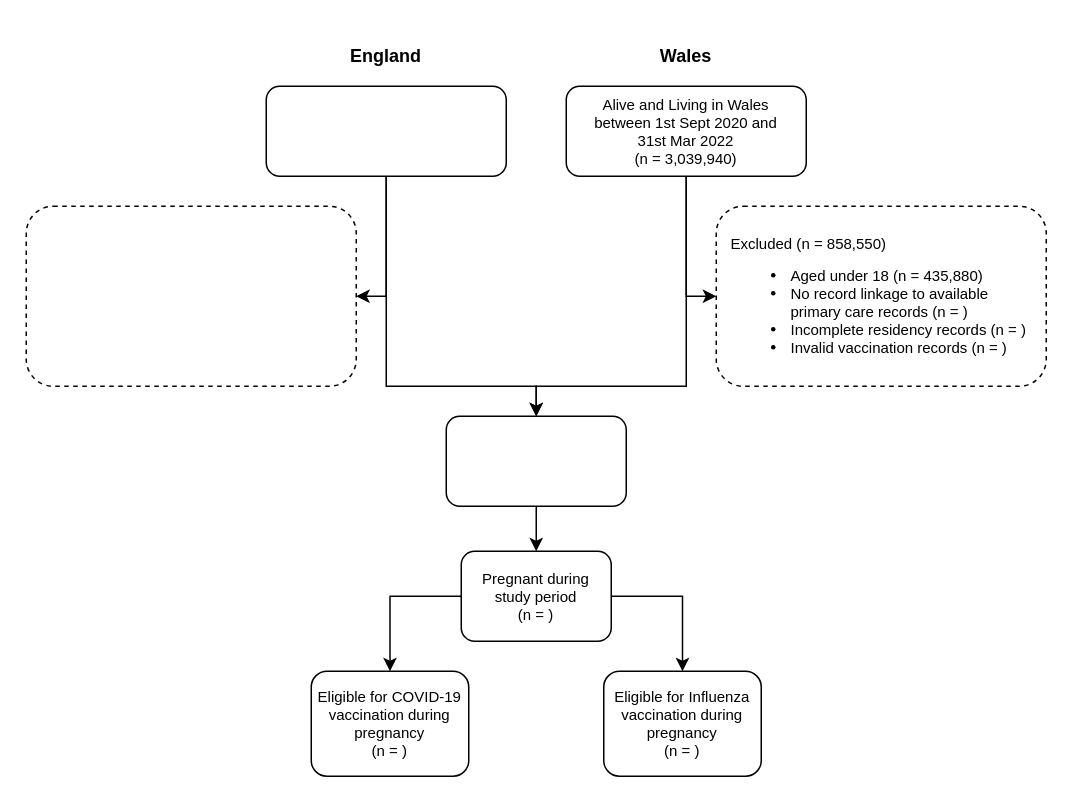
The diagram is 1073 pixels wide and 803 high, and some of its shapes have lost their labels. The shapes that lost their labels are listed below. From the top down, each one's centre as x and y in pixels, then its label:
At [190,295]: "Excluded ( n = )".
At [535,460]: "Combined England and Wales cohort (n = 4,238,470)".
